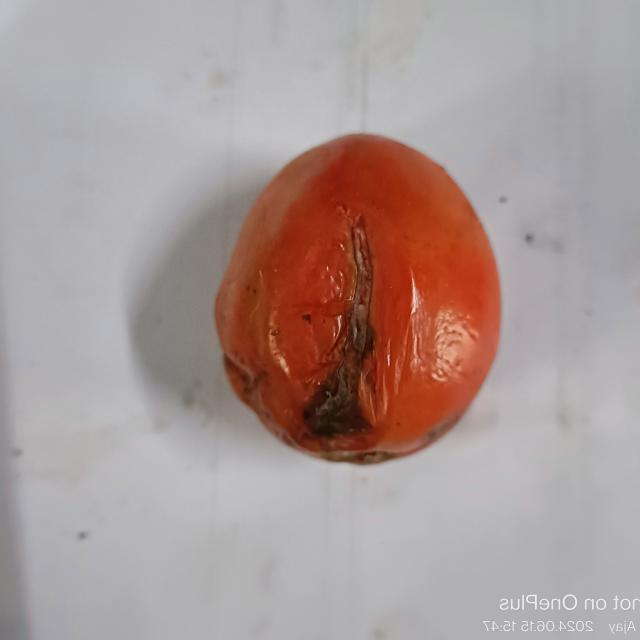Botrytis: (305, 212, 381, 444), (225, 269, 228, 275)
